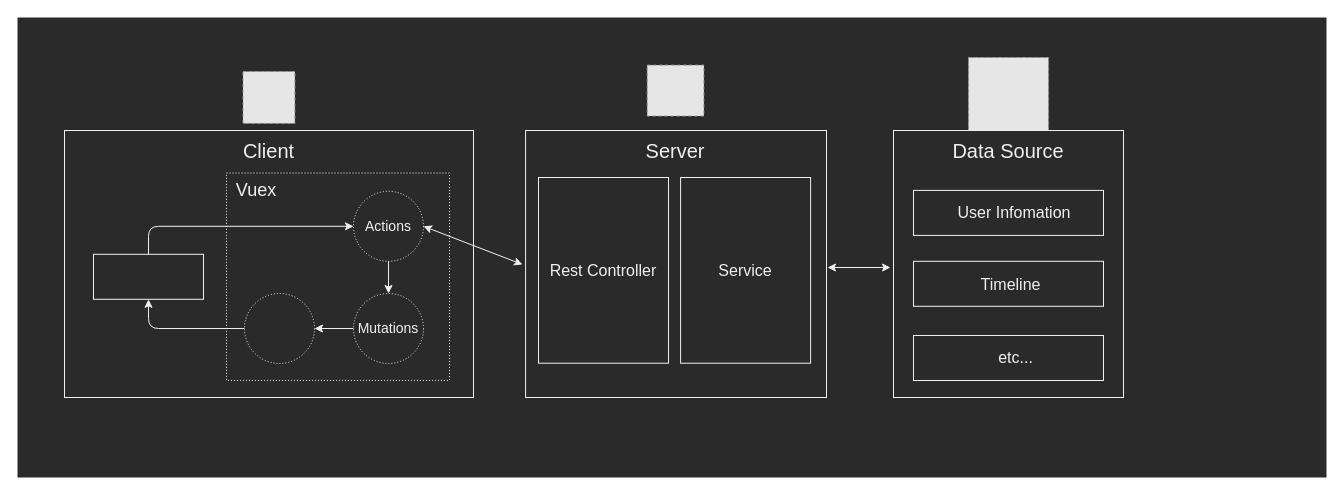
The diagram is 1343 pixels wide and 494 high, and some of its shapes have lost their labels. Grey dashed boxes stand in for pictures. Here are the shapes that lost their labels. From the top down, the centre of each, then its label:
At point (148, 276): "Vue Component".
At point (279, 328): "State".
